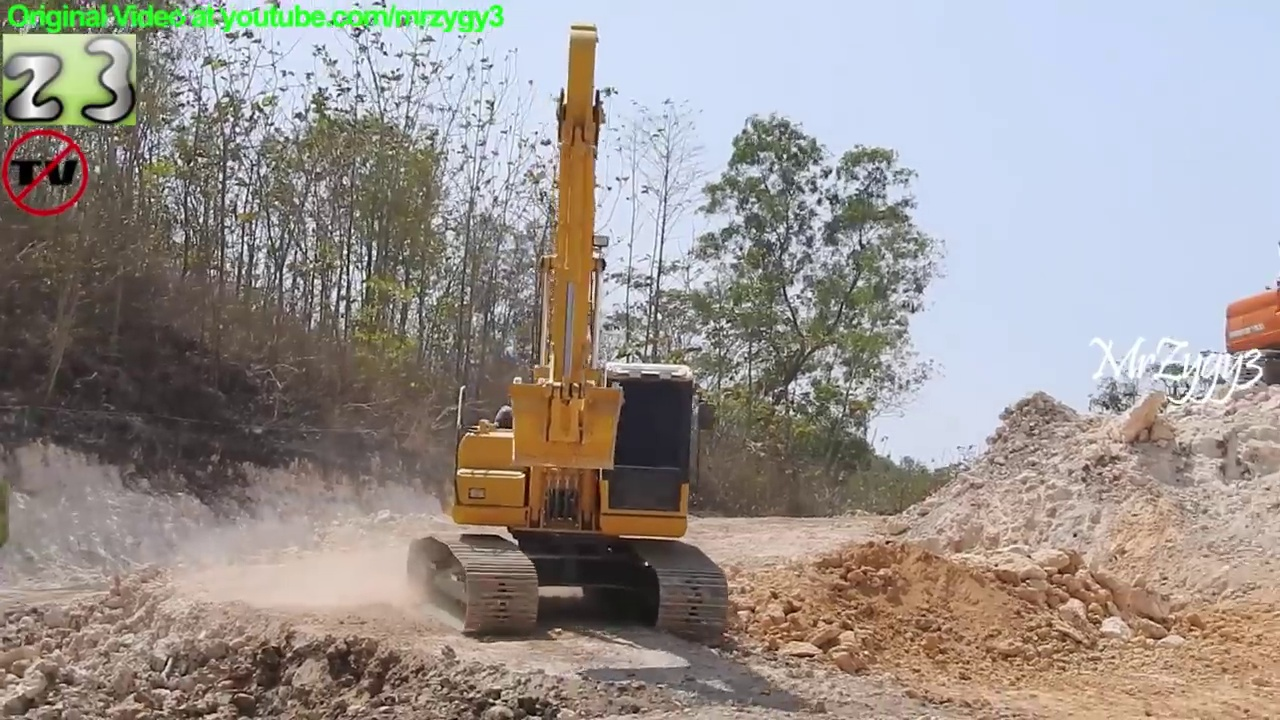excavator: (403, 21, 738, 654), (1216, 274, 1280, 387)
